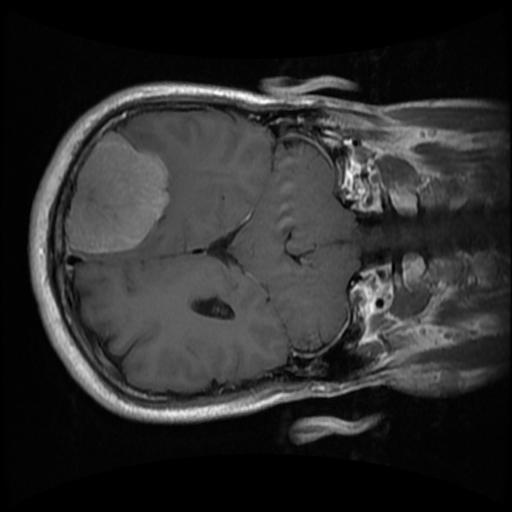meningioma: (63, 132, 169, 254)
